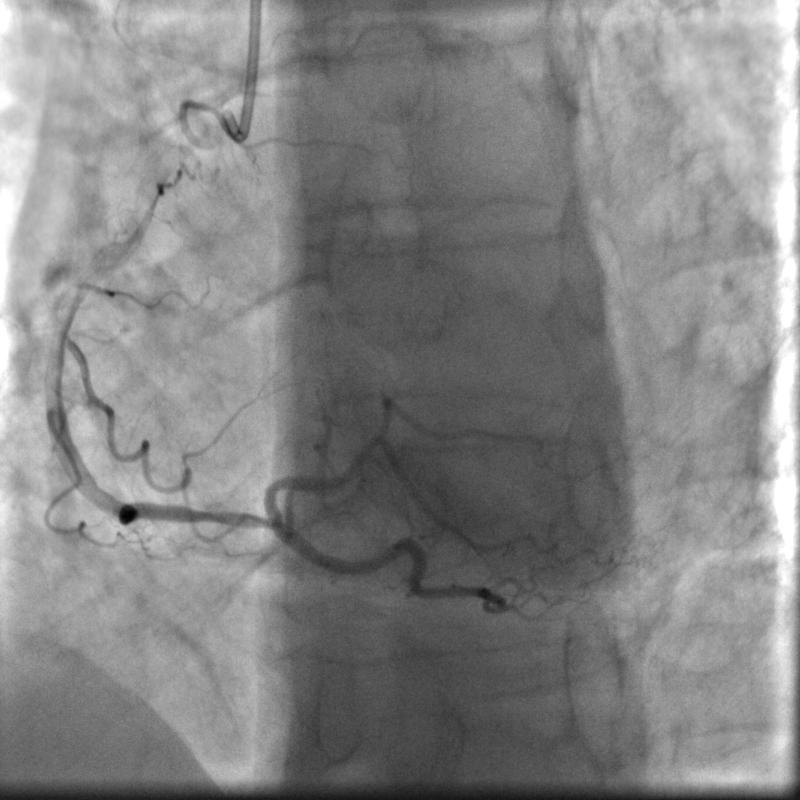Stenosis: (176, 495, 275, 543)
